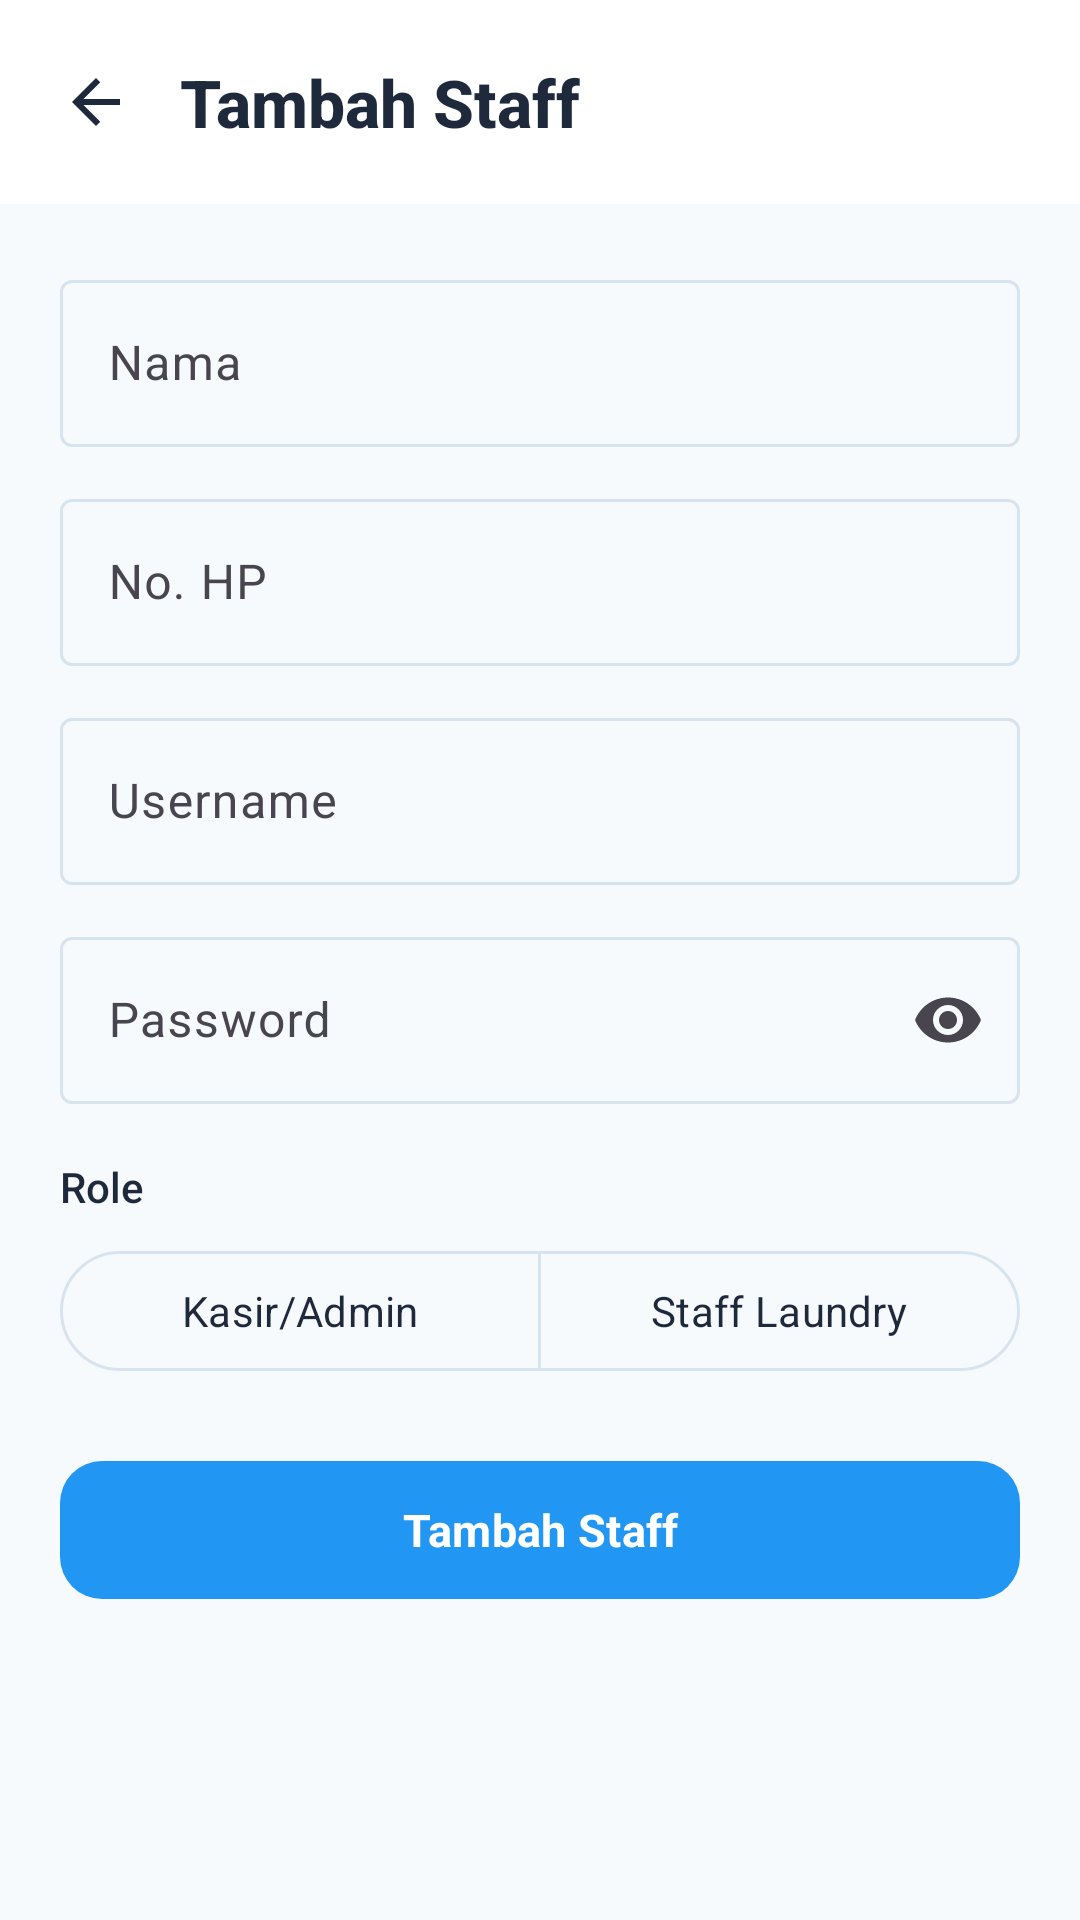

Icons on this 1080px×1920px Android screen, each with the point to tap as (x,y):
Kembali: (96,102)
